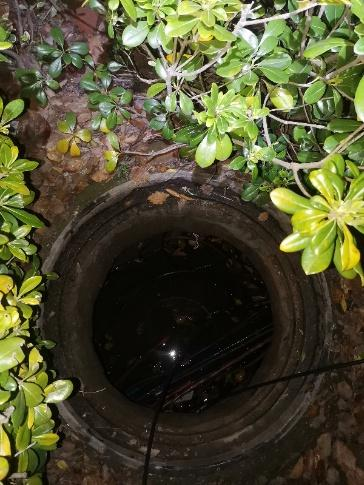wellcover: (34, 173, 357, 466)
